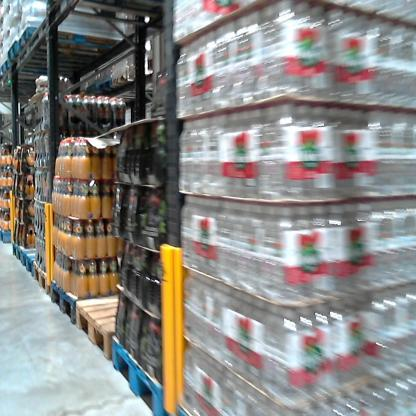pallet: (74, 281, 157, 375), (106, 328, 169, 412), (18, 23, 127, 61), (7, 41, 100, 80), (2, 54, 95, 83), (51, 280, 100, 332), (33, 263, 62, 301), (22, 248, 57, 279), (111, 70, 149, 87), (3, 224, 18, 248), (11, 240, 22, 265)
